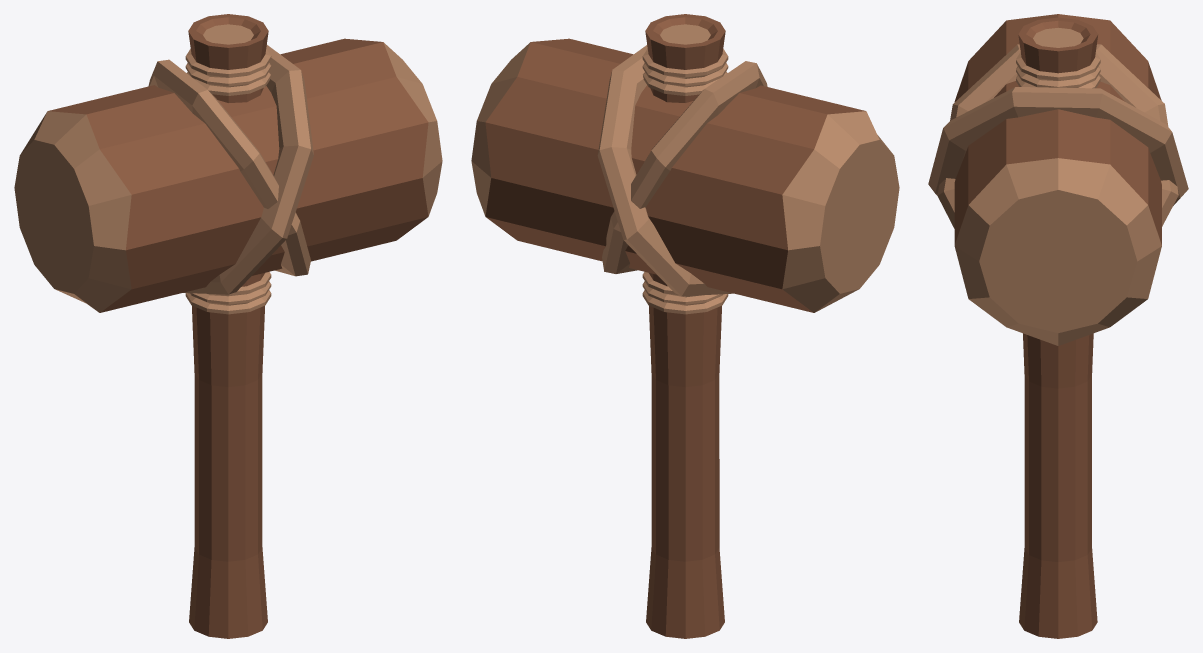
The model's file is Wooden Hammer.fbx.
3 views of the same model, side by side, from view 1: azimuth 30°, elevation 25°; view 2: azimuth 150°, elevation 25°; view 3: azimuth 270°, elevation 25° (orthographic).
Visible parts, largest first — view 1: Wooden Hammer; view 2: Wooden Hammer; view 3: Wooden Hammer.
Boxes of the visible parts, x1,y1,x2,y2 form: Wooden Hammer: [14, 14, 442, 638]; Wooden Hammer: [471, 14, 899, 638]; Wooden Hammer: [928, 14, 1188, 638].
Size of the model in its own units: 45.61 by 73.92 by 29.69.
